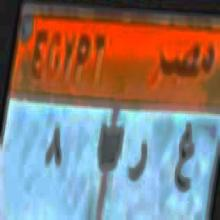8: (41, 118, 68, 177)
ghayn: (169, 120, 197, 194)
raa: (126, 137, 150, 186)
